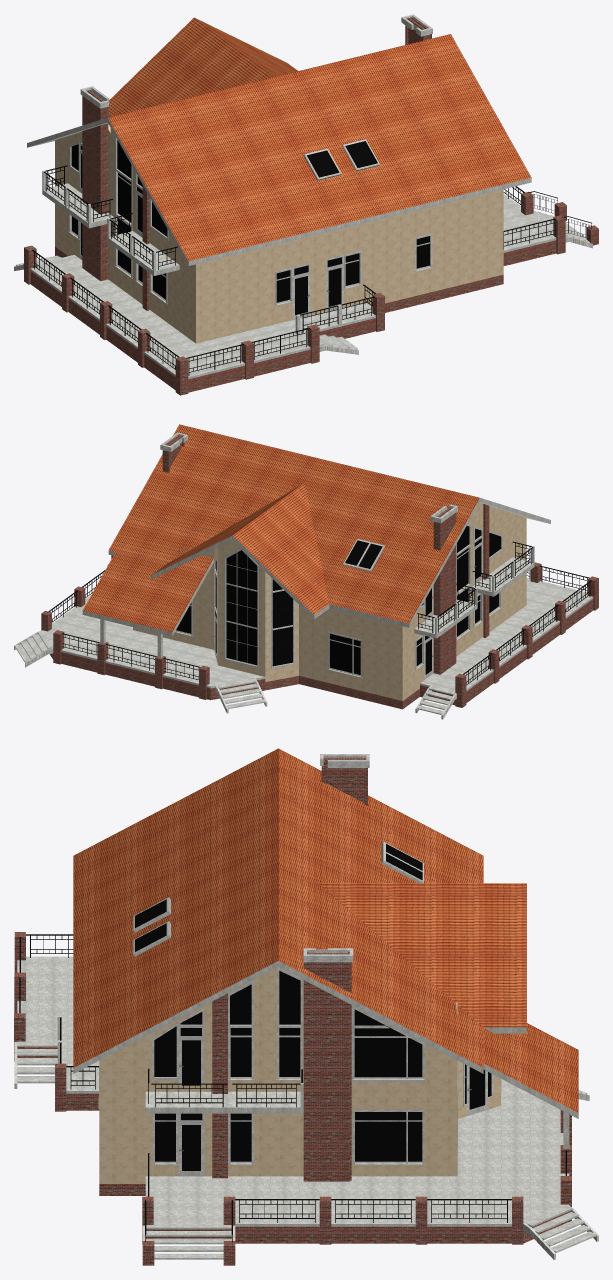
The model's file is casa.fbx.
3 renders of one model, top to bottom at view 1: azimuth 30°, elevation 25°; view 2: azimuth 150°, elevation 25°; view 3: azimuth 270°, elevation 25°, orthographic. The views are drawn at different scales.
Parts seen in each view (by area): view 1: techo, pared, polySurface5413, colunmas, ventanas, pasa_manos; view 2: techo, polySurface5413, pared, colunmas, ventanas, pasa_manos; view 3: techo, polySurface5413, colunmas, pared, ventanas, pasa_manos.
Boxes of the visible parts, x1,y1,x2,y2 form: techo: (108, 17, 531, 261); pared: (55, 124, 503, 343); polySurface5413: (14, 14, 592, 379); colunmas: (24, 17, 598, 395); ventanas: (71, 140, 429, 314); pasa_manos: (32, 171, 591, 375); techo: (83, 424, 479, 632); polySurface5413: (14, 432, 593, 719); pared: (133, 503, 526, 700); colunmas: (41, 435, 598, 709); ventanas: (176, 526, 500, 674); pasa_manos: (48, 541, 591, 685); techo: (73, 748, 578, 1112); polySurface5413: (14, 754, 598, 1259); colunmas: (14, 757, 571, 1265); pared: (99, 967, 500, 1183); ventanas: (135, 844, 490, 1170); pasa_manos: (19, 934, 566, 1242).
Bounding box in the file's own units: 7.08 × 2.84 × 6.03.
